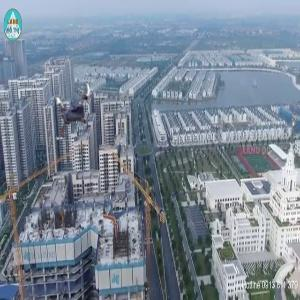drone: (42, 81, 106, 145)
